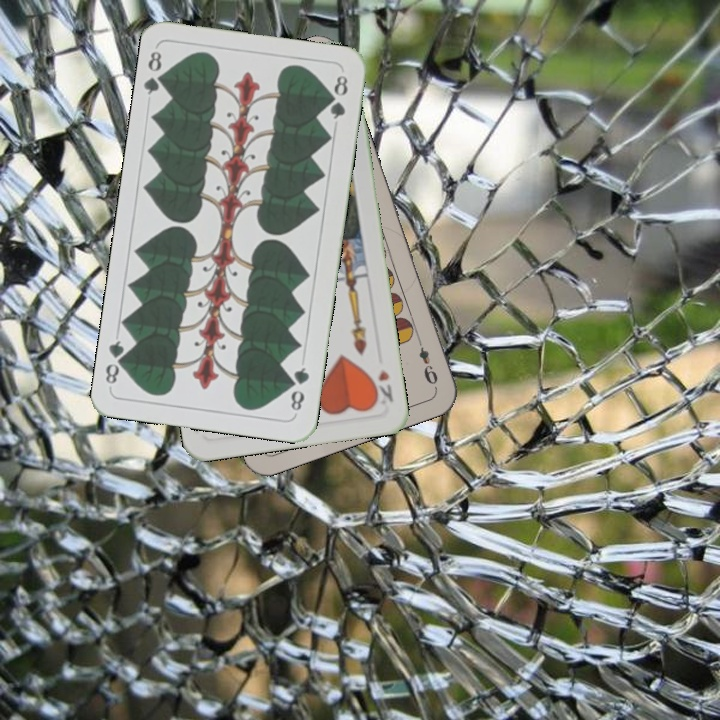E9: (413, 332, 441, 387)
G8: (140, 47, 170, 97), (286, 363, 312, 414)
HK: (368, 365, 396, 408)
